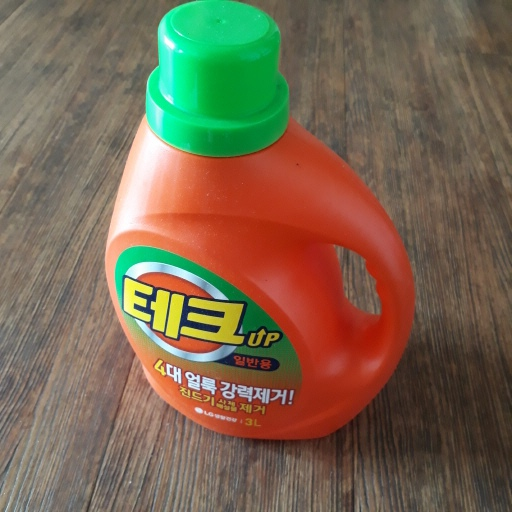Plastic_1: (104, 3, 416, 444)
